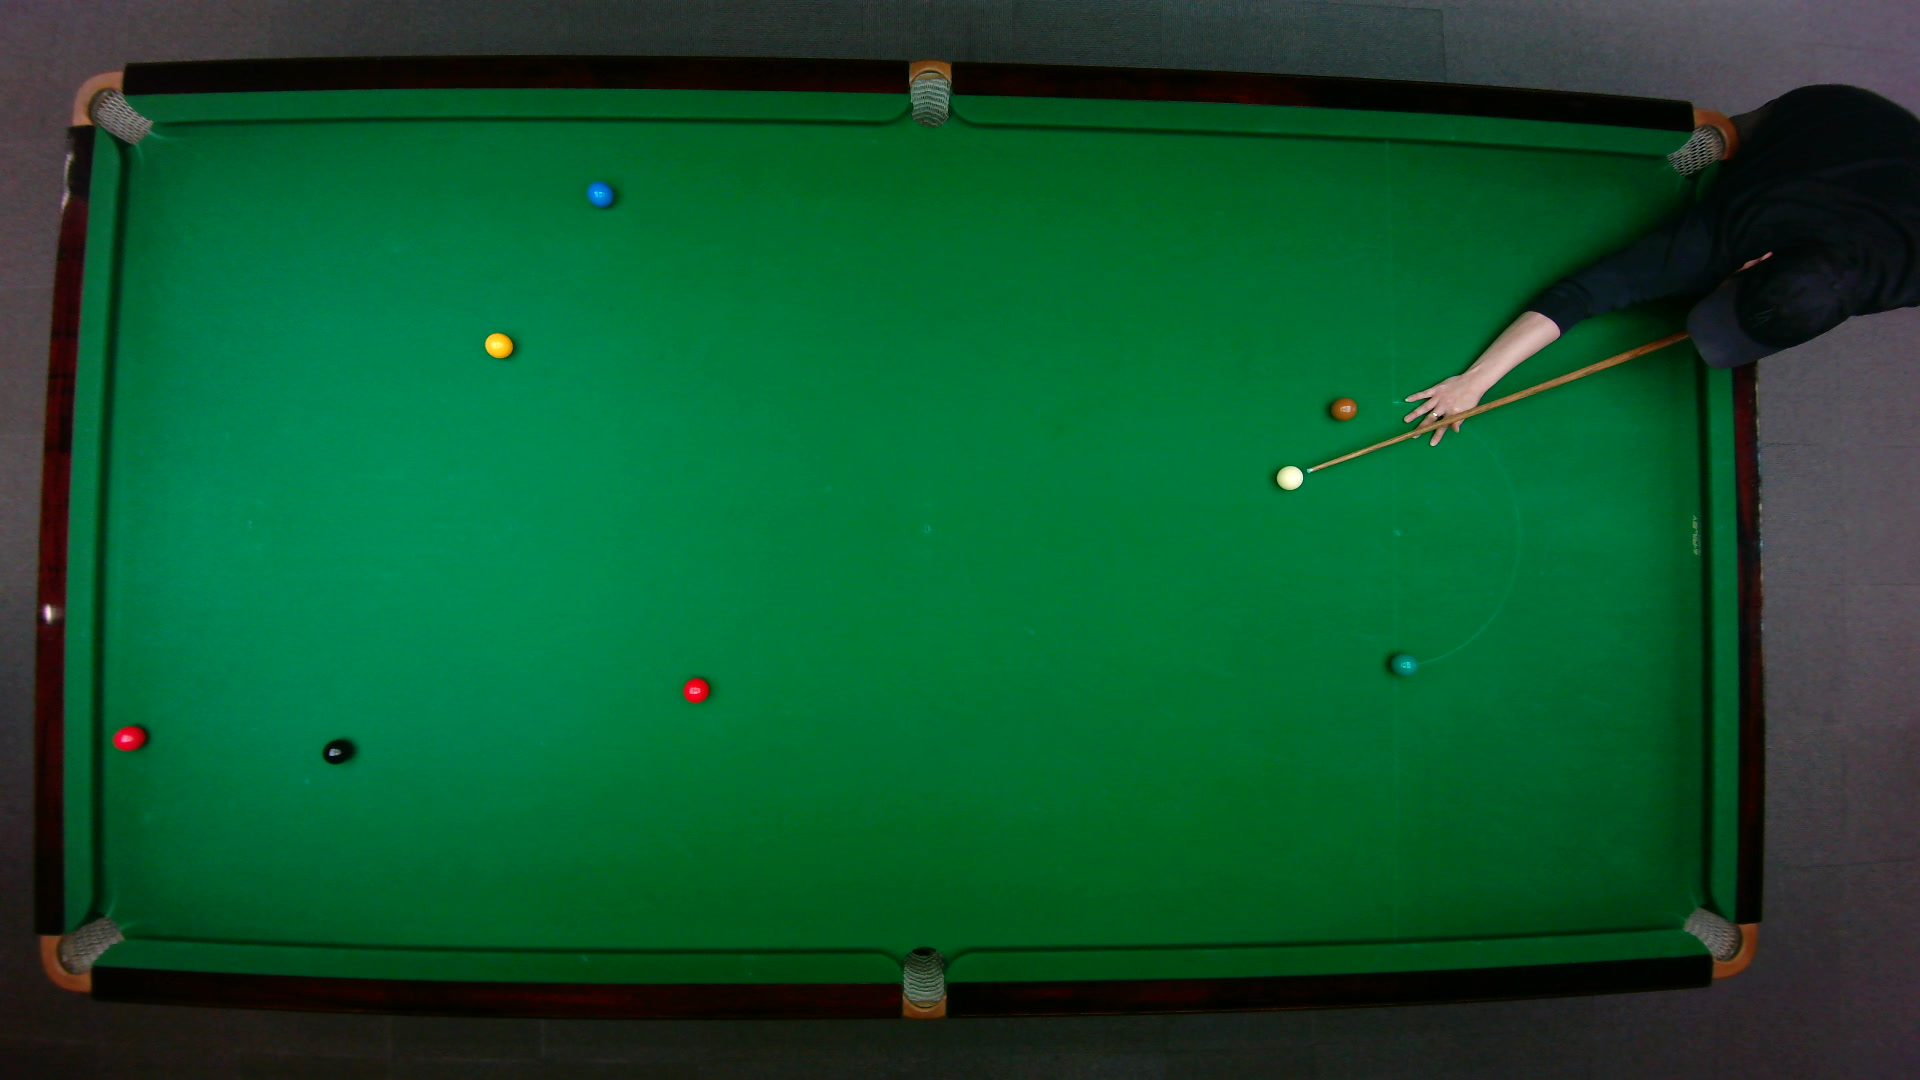bag: (38, 913, 125, 992), (69, 69, 152, 145), (1679, 905, 1756, 978), (1665, 107, 1738, 175), (901, 944, 944, 1021), (909, 57, 949, 128)
black: (320, 737, 352, 765)
blue: (585, 179, 615, 207)
brown: (1328, 396, 1358, 419)
cue: (1302, 324, 1691, 473)
green: (1389, 650, 1418, 676)
red: (109, 723, 146, 752), (680, 675, 709, 704)
white: (1273, 463, 1304, 491)
yellow: (483, 330, 514, 359)
zone: (1390, 411, 1519, 666)
